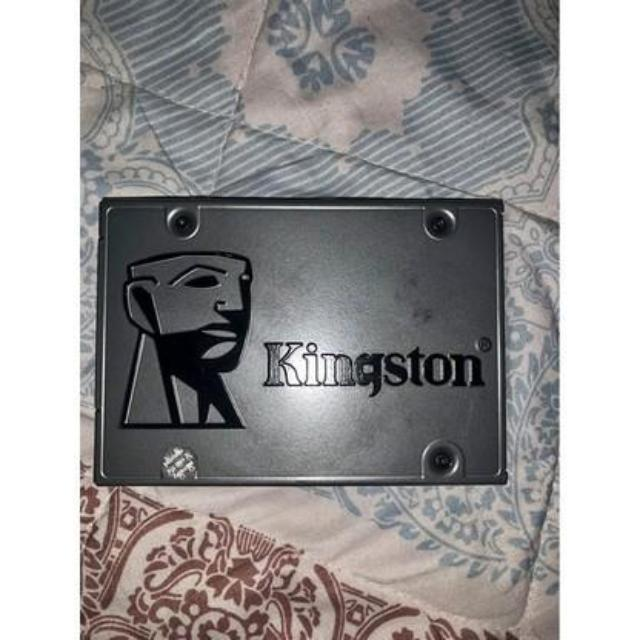DISK: (99, 195, 508, 488)
